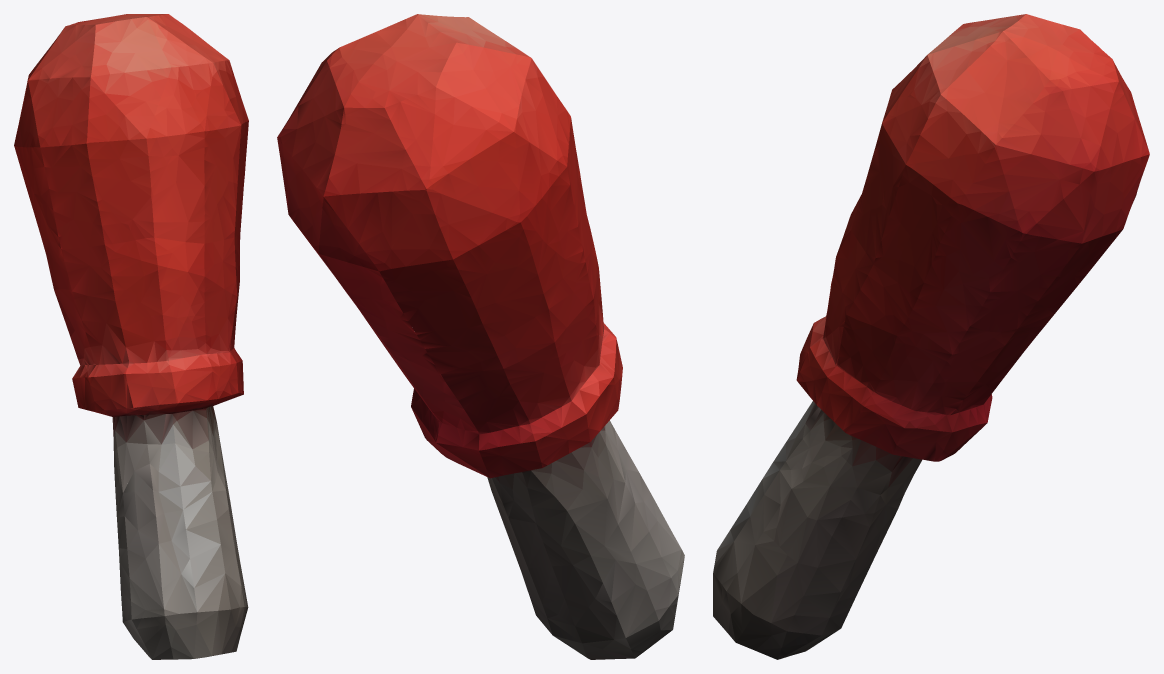
Rendered from building-circuitLamp-lever.glb.
3 renders of one model, left to right at view 1: azimuth 30°, elevation 25°; view 2: azimuth 150°, elevation 25°; view 3: azimuth 270°, elevation 25°, orthographic. The views are drawn at different scales.
Parts seen in each view (by area): view 1: 0_circuitLamp-lever; view 2: 0_circuitLamp-lever; view 3: 0_circuitLamp-lever.
Boxes of the visible parts, <box> form: 0_circuitLamp-lever: <box>14,14,248,659</box>; 0_circuitLamp-lever: <box>277,14,684,659</box>; 0_circuitLamp-lever: <box>713,14,1149,659</box>.
Bounding box in the file's own units: 0.0566 × 0.15 × 0.0914.
